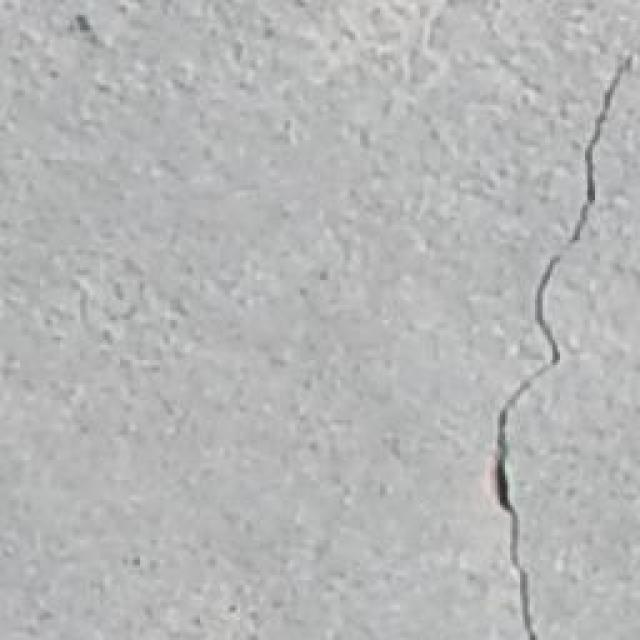concrete-crack: (487, 50, 640, 640)
